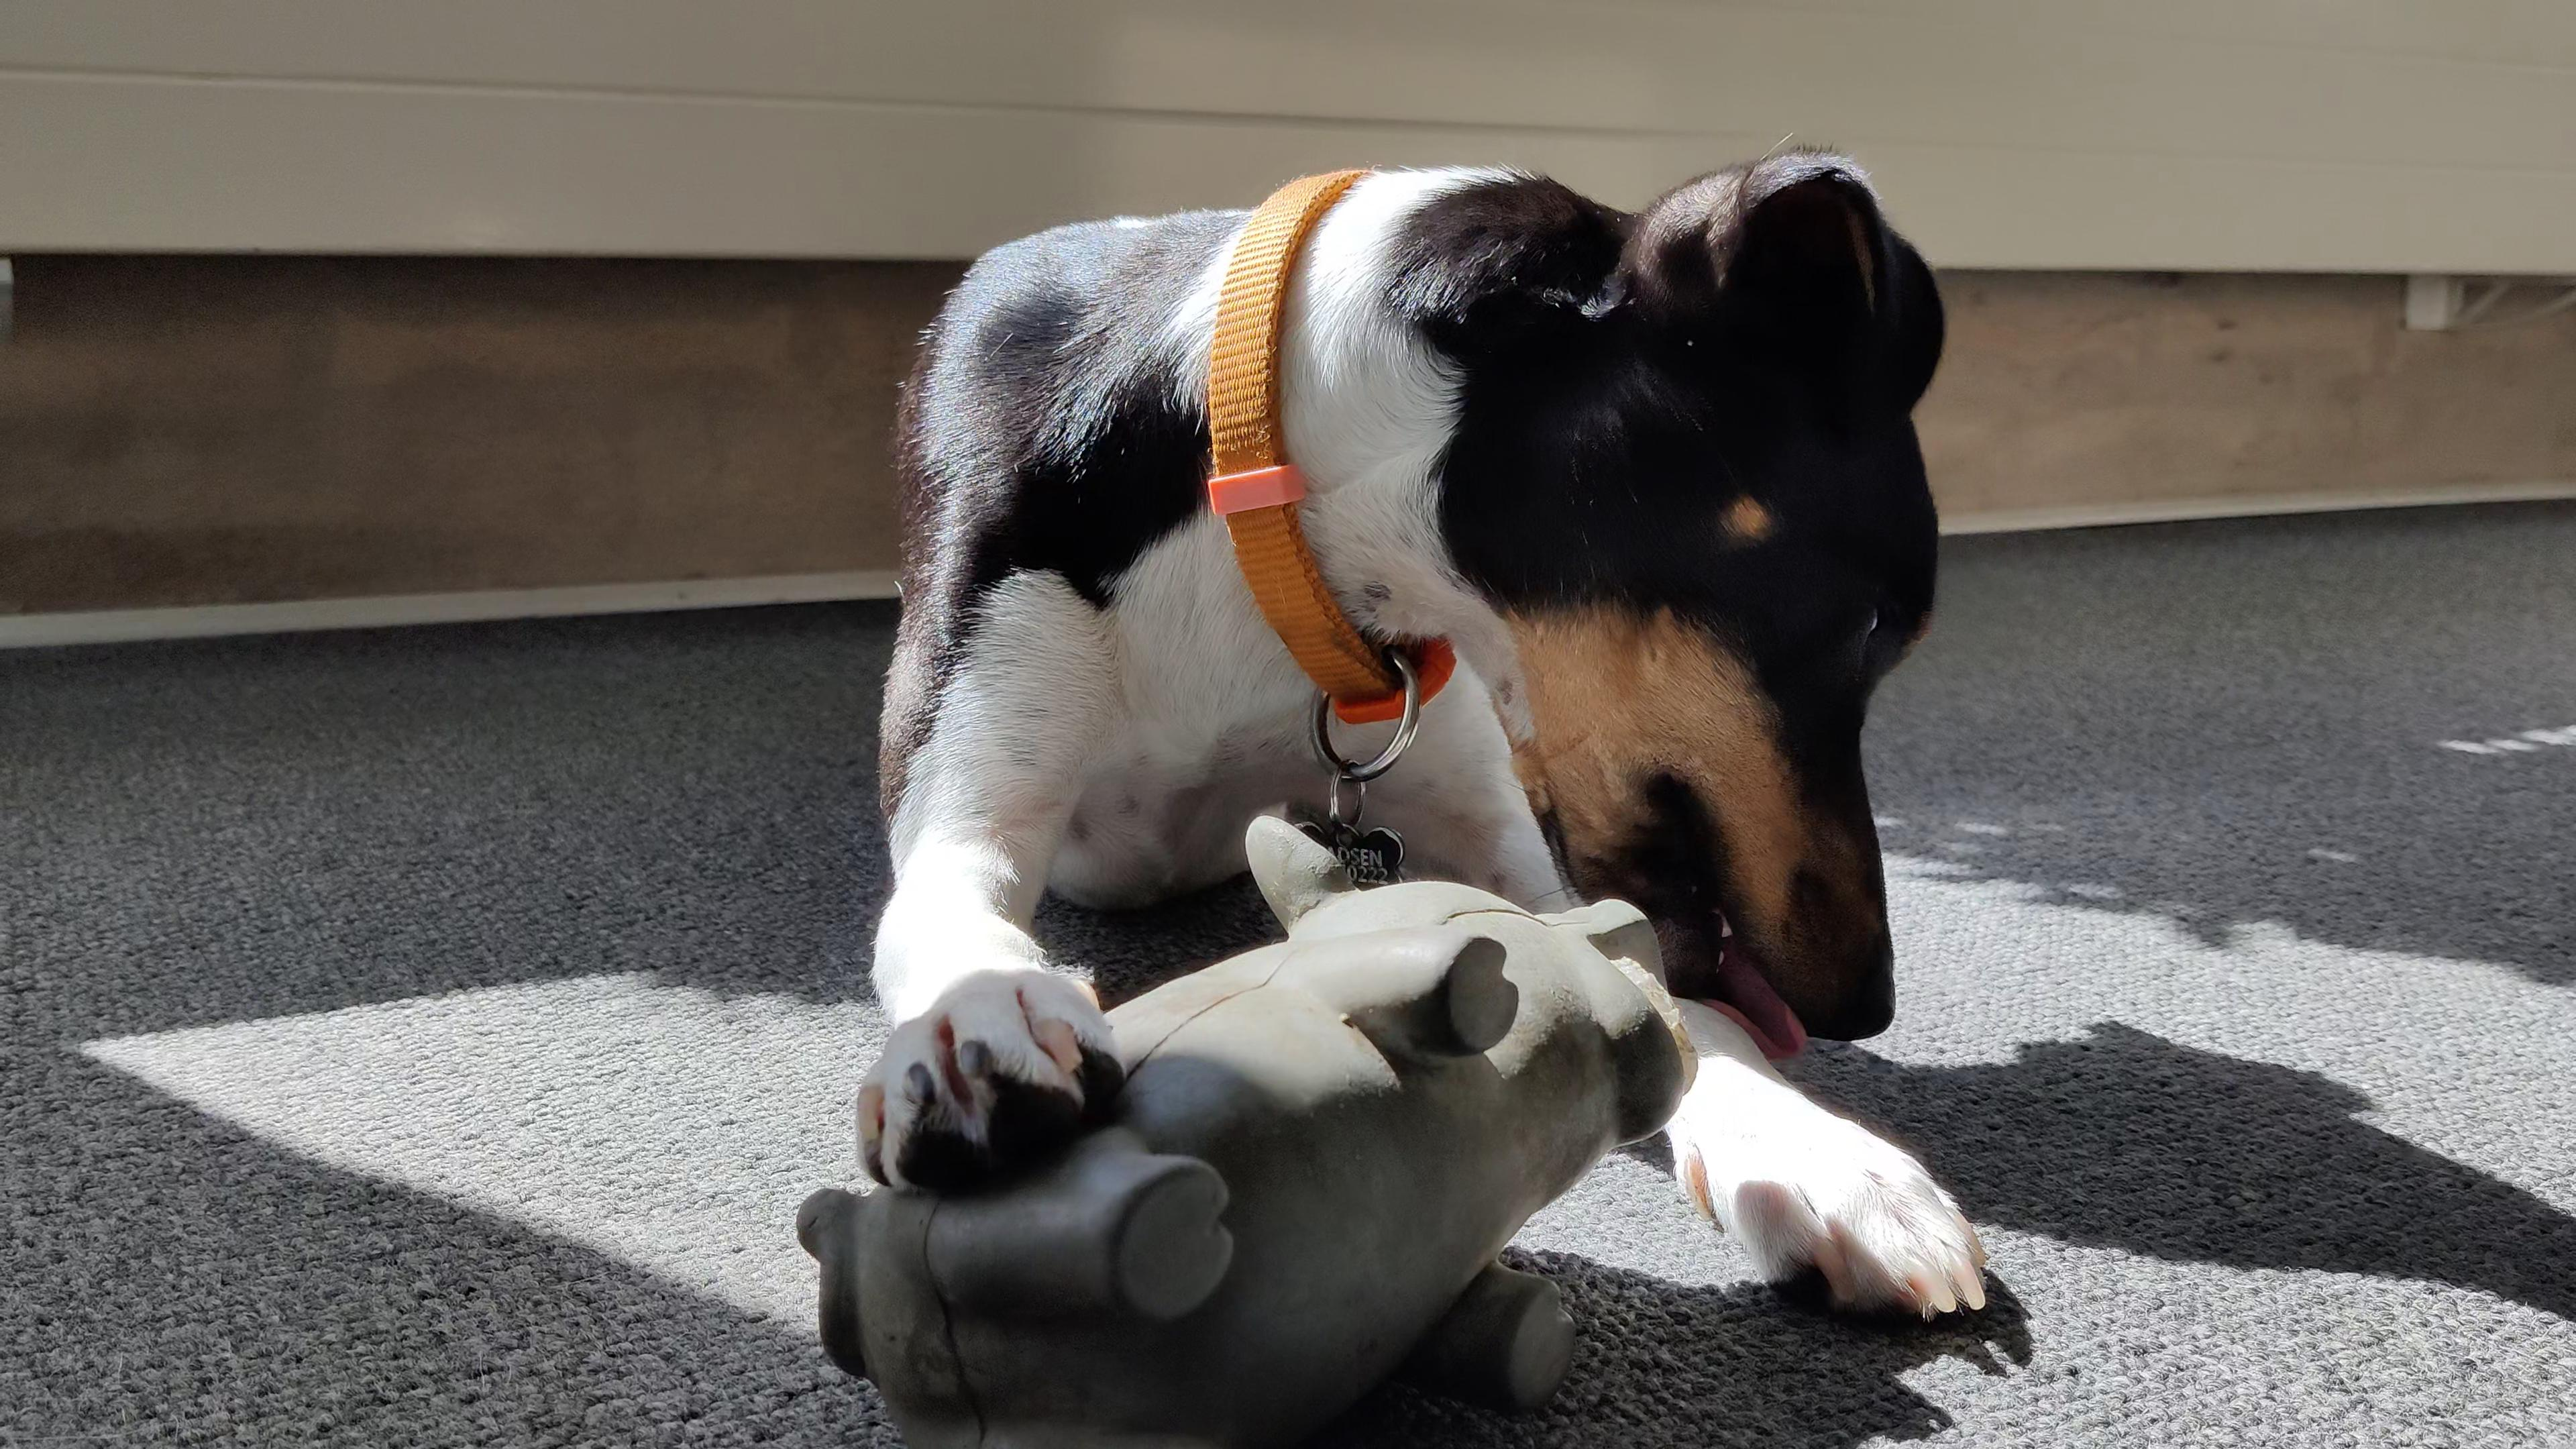Dog: (828, 122, 2049, 1352)
